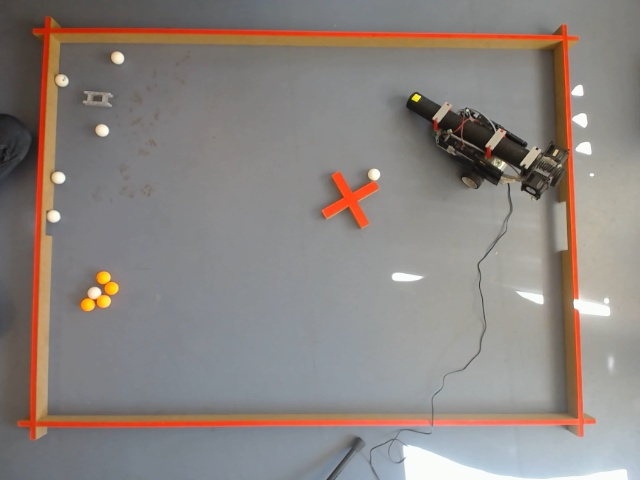orange: (97, 275, 116, 294), (78, 296, 98, 314), (94, 293, 112, 311), (95, 269, 112, 287), (102, 279, 120, 296), (89, 283, 104, 302)
robot: (393, 102, 571, 204)
white: (0, 0, 63, 80), (599, 468, 629, 480), (92, 123, 111, 140), (109, 50, 126, 68), (54, 73, 71, 90), (50, 170, 68, 186), (366, 167, 382, 183), (86, 285, 102, 301), (46, 209, 62, 224), (572, 83, 584, 97)
